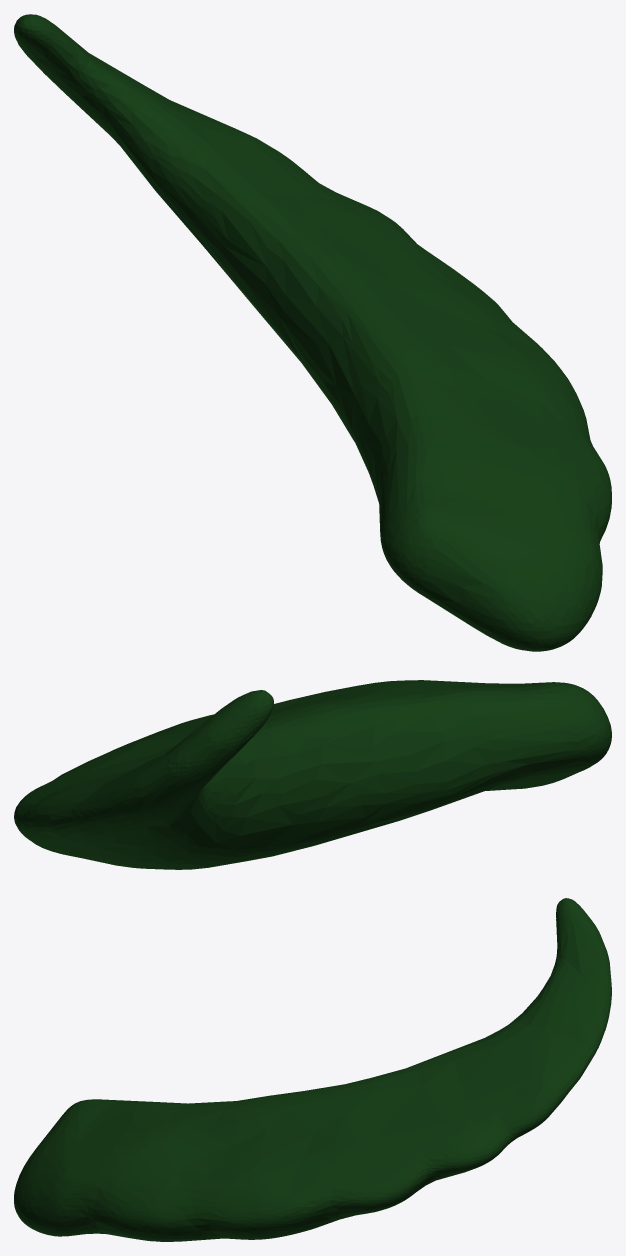
The model's file is Left_hippocampus.obj.
The picture shows the model from 3 angles, top to bottom: view 1: azimuth 30°, elevation 25°; view 2: azimuth 150°, elevation 25°; view 3: azimuth 270°, elevation 25°; orthographic projection. The views are drawn at different scales.
Visible parts, largest first — view 1: obj0; view 2: obj0; view 3: obj0.
Boxes of the visible parts, x1=… form: obj0: x1=14, y1=14, x2=611, y2=651; obj0: x1=14, y1=680, x2=611, y2=869; obj0: x1=14, y1=898, x2=611, y2=1241.
Bounding box in the file's own units: 9.55 × 10.5 × 20.49.
1 material, 1 textured.
